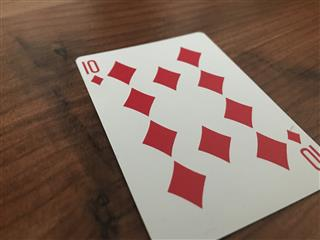TenOfDiamonds: (74, 30, 320, 240)
